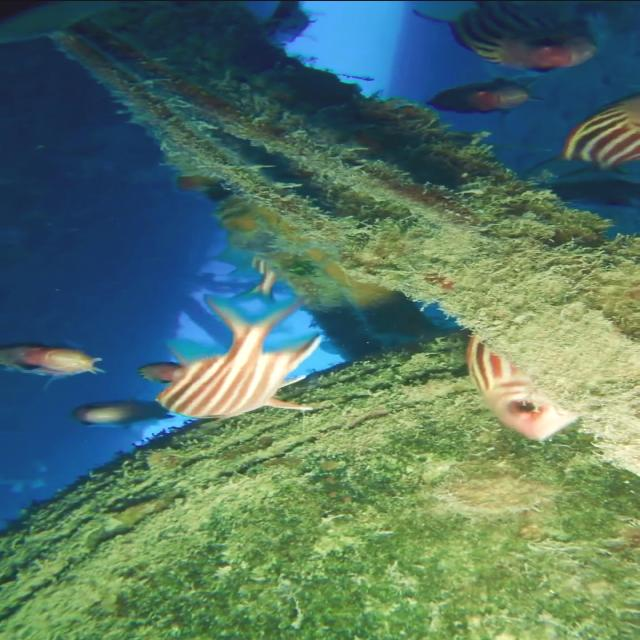Asker Baligi: (136, 292, 326, 420)
